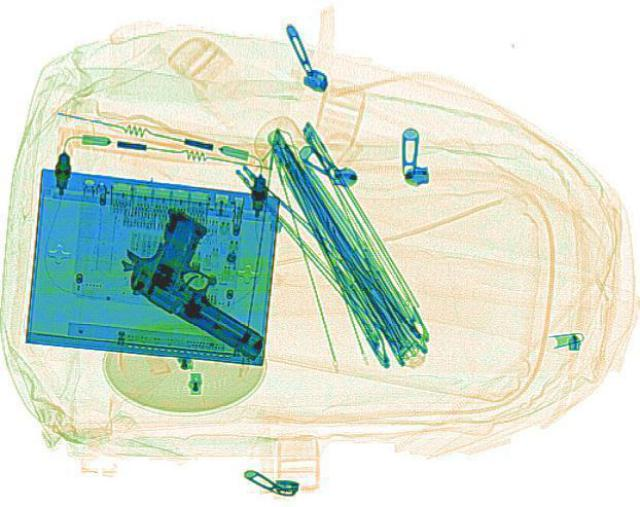Gun: (100, 204, 324, 357)
